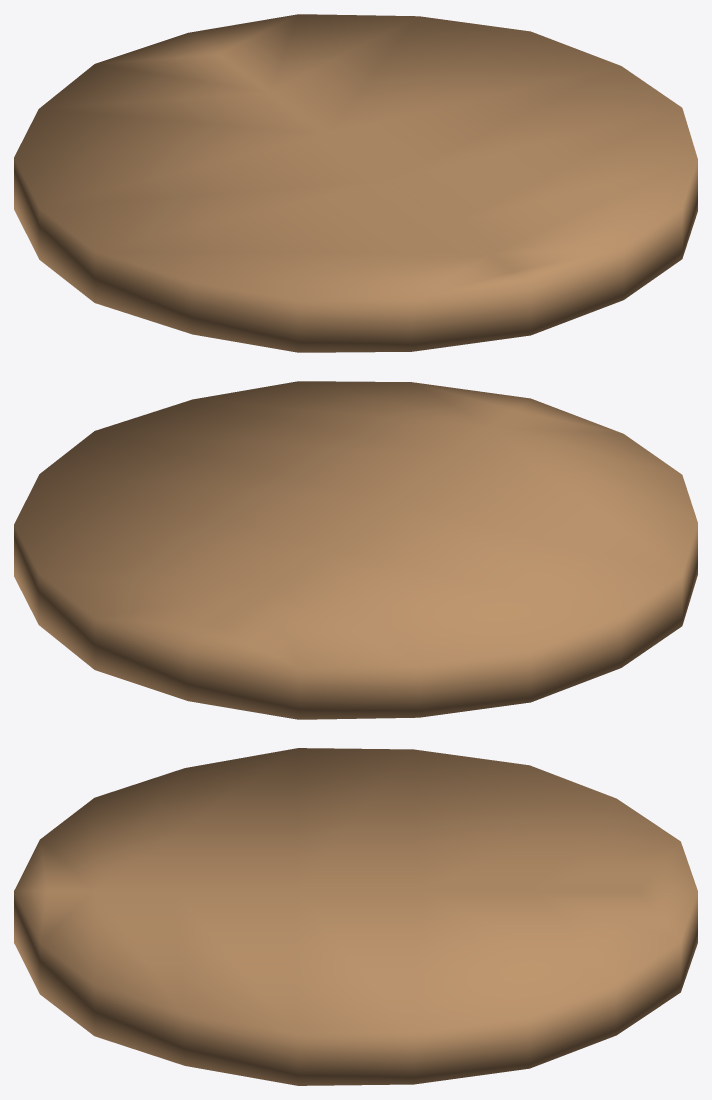
3 views of the same model, one above another, from view 1: azimuth 30°, elevation 25°; view 2: azimuth 150°, elevation 25°; view 3: azimuth 270°, elevation 25° (orthographic).
Parts seen in each view (by area): view 1: Base; view 2: Base; view 3: Base.
Boxes of the visible parts, box(x1,y1,x2,y2) form: Base: box(14, 14, 697, 352); Base: box(14, 381, 697, 719); Base: box(14, 748, 697, 1085).
Bounding box in the file's own units: 3.56 × 0.3 × 3.6.
